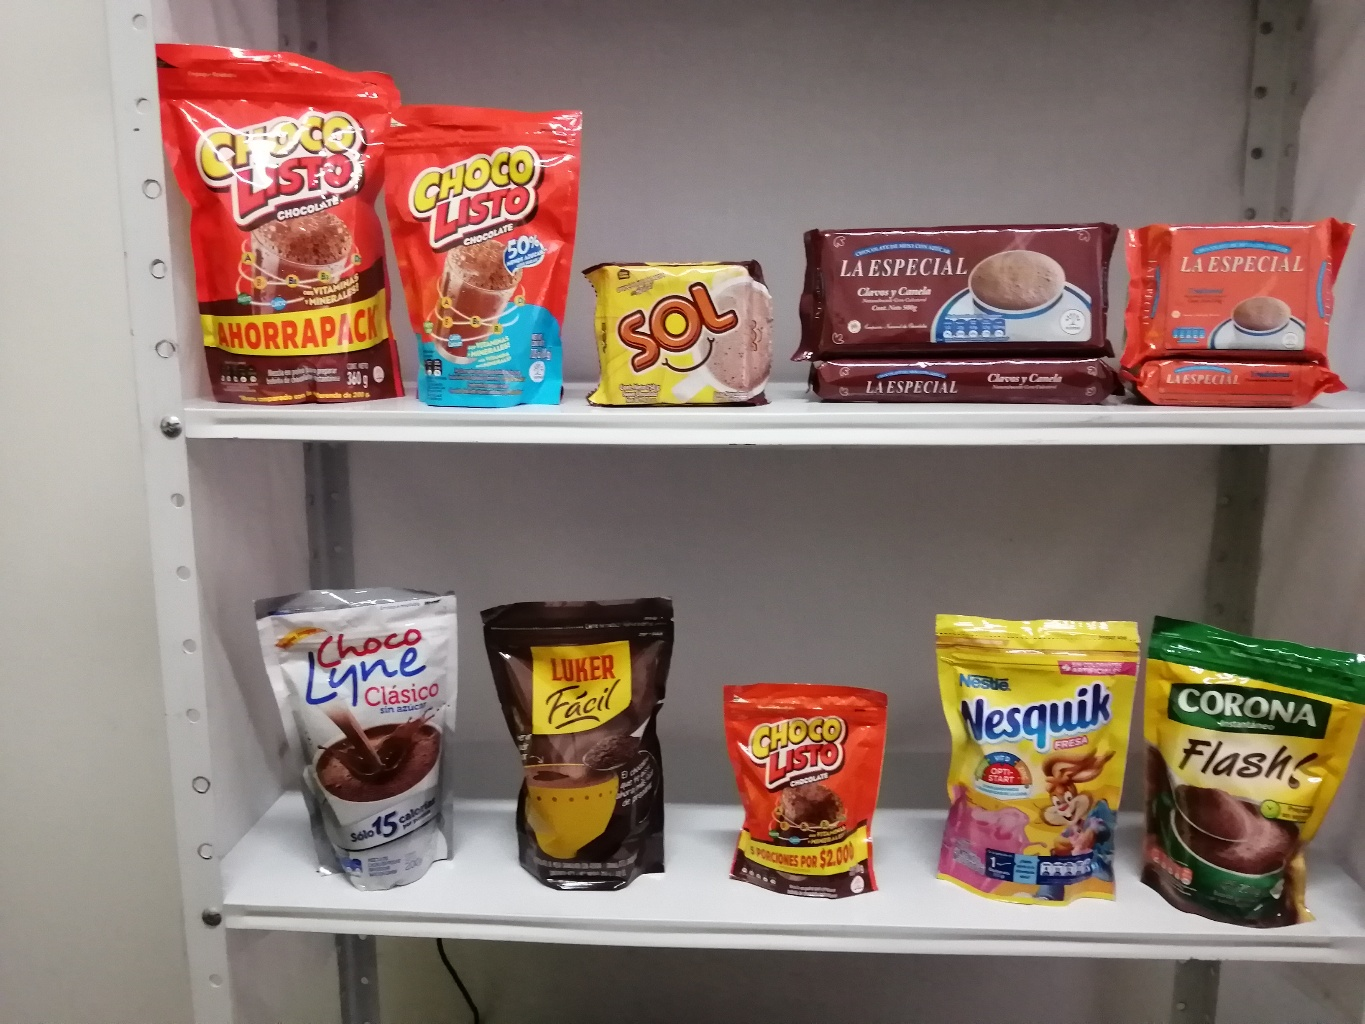COL0170103DYP36000: (139, 26, 422, 407)
COL0170104DYP20000: (372, 89, 593, 409)
COL0170305DYP20000: (918, 601, 1136, 909)
